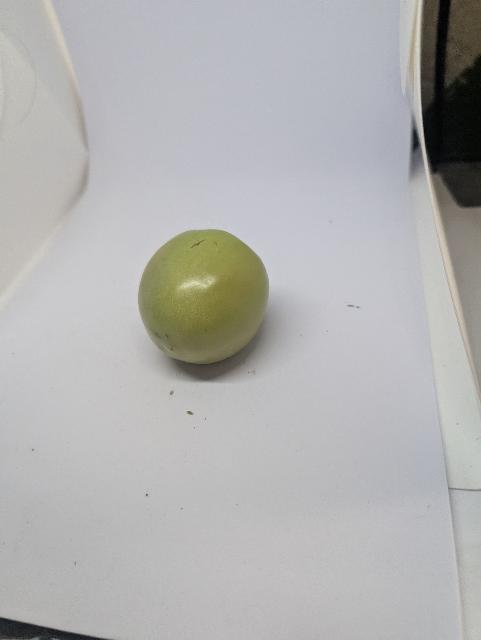green: (135, 227, 272, 367)
